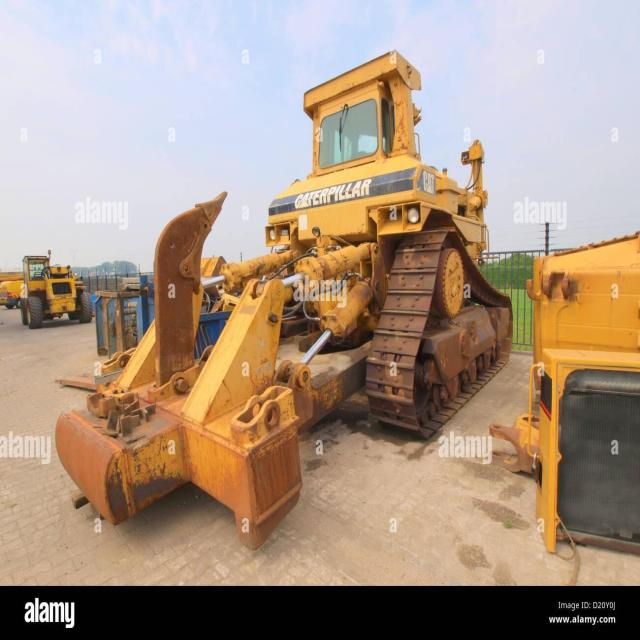buldozerpayloadergrader: (55, 47, 548, 552)
